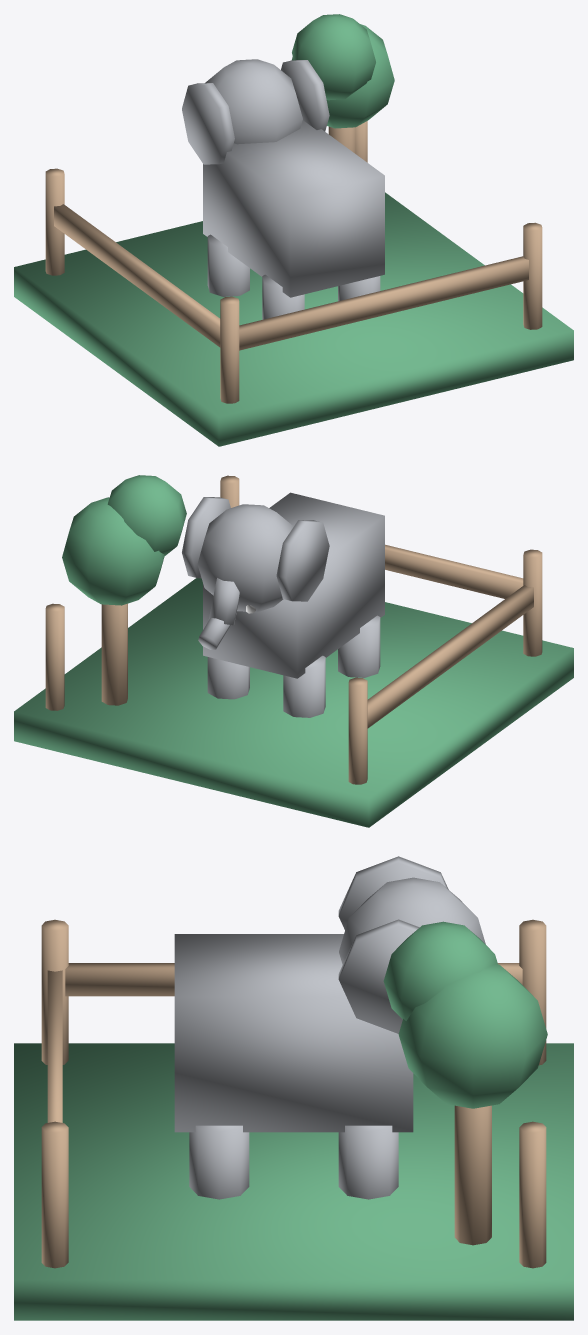
Rendered from elephant_sanctuary.glb.
3 renders of one model, top to bottom at view 1: azimuth 30°, elevation 25°; view 2: azimuth 150°, elevation 25°; view 3: azimuth 270°, elevation 25°, orthographic. The views are drawn at different scales.
Visible parts, largest first — view 1: base, ele_body, fence_rail_b, ele_head, tree_leaf2, fence_rail_l, ele_ear_l, tree_leaf1, fence_p1, fence_p2, ele_ear_r, ele_leg_fl (+3 smaller); view 2: base, ele_body, tree_leaf1, ele_head, fence_rail_l, tree_leaf2, fence_rail_b, ele_ear_l, tree_trunk, fence_p3, fence_p4, ele_leg_fl (+7 smaller); view 3: base, ele_body, tree_leaf1, tree_leaf2, tree_trunk, ele_head, ele_ear_r, ele_leg_br, ele_leg_fr, fence_p2, fence_p4, fence_rail_l (+4 smaller).
Part boxes in pixels (x1=…): base: x1=14, y1=192, x2=573, y2=446; ele_body: x1=203, y1=120, x2=384, y2=297; fence_rail_b: x1=239, y1=256, x2=528, y2=350; ele_head: x1=205, y1=59, x2=302, y2=144; tree_leaf2: x1=292, y1=14, x2=375, y2=100; fence_rail_l: x1=54, y1=204, x2=220, y2=347; ele_ear_l: x1=182, y1=83, x2=234, y2=164; tree_leaf1: x1=292, y1=24, x2=394, y2=128; fence_p1: x1=220, y1=296, x2=239, y2=403; fence_p2: x1=523, y1=222, x2=542, y2=329; ele_ear_r: x1=281, y1=60, x2=329, y2=131; ele_leg_fl: x1=207, y1=234, x2=249, y2=296; base: x1=14, y1=578, x2=573, y2=827; ele_body: x1=203, y1=492, x2=384, y2=678; tree_leaf1: x1=62, y1=497, x2=164, y2=605; ele_head: x1=197, y1=504, x2=293, y2=612; fence_rail_l: x1=367, y1=585, x2=533, y2=728; tree_leaf2: x1=107, y1=475, x2=186, y2=556; fence_rail_b: x1=385, y1=544, x2=523, y2=598; ele_ear_l: x1=276, y1=520, x2=329, y2=601; tree_trunk: x1=101, y1=603, x2=127, y2=705; fence_p3: x1=348, y1=677, x2=367, y2=784; fence_p4: x1=45, y1=603, x2=64, y2=710; ele_leg_fl: x1=283, y1=655, x2=325, y2=717; base: x1=14, y1=1043, x2=573, y2=1320; ele_body: x1=174, y1=934, x2=413, y2=1132; tree_leaf1: x1=398, y1=964, x2=547, y2=1108; tree_leaf2: x1=383, y1=921, x2=497, y2=1020; tree_trunk: x1=454, y1=1105, x2=491, y2=1245; ele_head: x1=339, y1=877, x2=485, y2=964; ele_ear_r: x1=338, y1=919, x2=419, y2=1033; ele_leg_br: x1=189, y1=1125, x2=249, y2=1199; ele_leg_fr: x1=338, y1=1125, x2=398, y2=1199; fence_p2: x1=41, y1=1121, x2=68, y2=1268; fence_p4: x1=519, y1=1121, x2=546, y2=1268; fence_rail_l: x1=65, y1=963, x2=522, y2=996.
Size of the model in its own units: 0.75 by 0.5 by 0.75.
